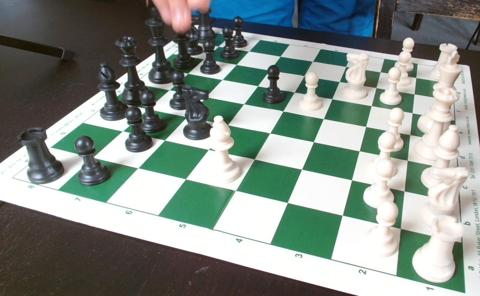xcorner: (229, 184, 242, 197), (281, 196, 294, 209), (394, 222, 407, 235), (117, 124, 130, 137), (345, 173, 358, 186), (142, 102, 155, 115), (263, 126, 276, 139), (353, 144, 366, 157), (276, 104, 289, 117), (287, 85, 300, 98), (407, 87, 420, 100), (273, 49, 286, 62), (305, 54, 318, 67), (373, 65, 386, 78), (88, 151, 100, 164), (180, 172, 192, 185), (336, 209, 349, 221), (159, 133, 171, 146), (202, 143, 215, 155), (248, 152, 260, 165), (295, 163, 308, 175), (398, 185, 411, 197), (221, 118, 234, 130), (307, 135, 320, 147), (163, 83, 176, 95), (199, 90, 212, 102), (237, 97, 250, 109), (317, 112, 330, 124), (359, 120, 372, 132), (403, 128, 416, 140), (182, 66, 194, 79), (216, 72, 228, 85), (325, 92, 338, 104), (405, 106, 418, 118), (197, 52, 210, 64), (230, 57, 242, 70), (297, 69, 310, 81), (369, 81, 382, 93), (212, 39, 224, 52), (242, 44, 254, 57), (133, 162, 145, 174), (181, 110, 193, 122), (401, 154, 413, 166), (251, 79, 263, 91), (365, 99, 377, 111), (263, 63, 275, 75), (333, 75, 345, 87), (339, 60, 351, 72), (409, 71, 421, 83)
